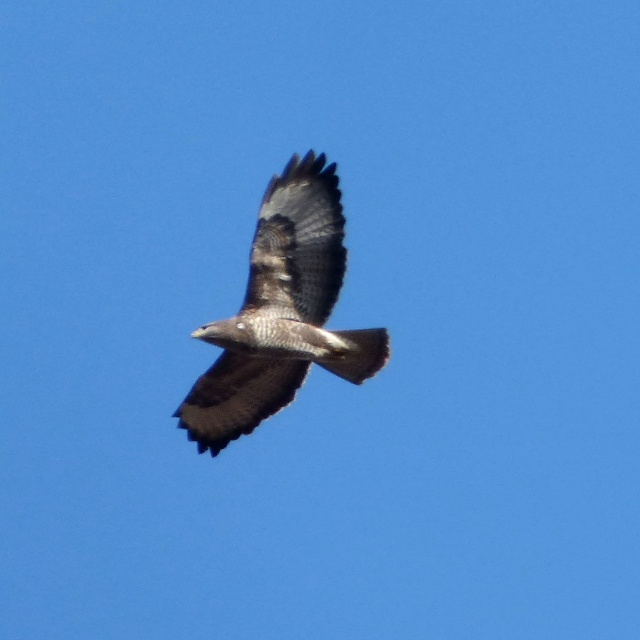Eagle: (171, 141, 391, 458)
